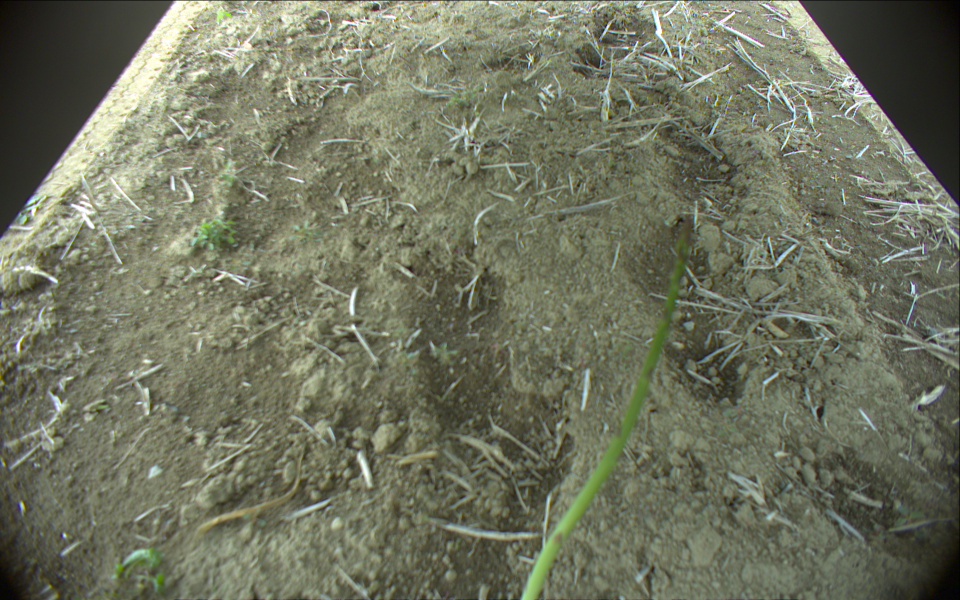aspa: (521, 211, 693, 600)
